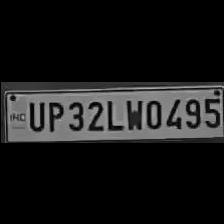0: (142, 95, 162, 129)
2: (84, 96, 104, 132)
3: (64, 96, 84, 132)
4: (162, 94, 182, 130)
5: (201, 94, 221, 128)
9: (181, 94, 201, 128)
L: (104, 96, 122, 130)
P: (43, 97, 63, 132)
U: (23, 97, 43, 130)
W: (122, 96, 142, 130)
